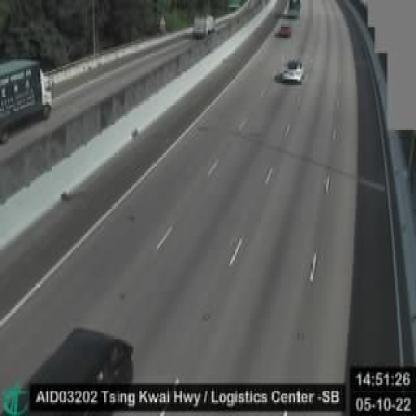Car: (279, 59, 303, 81), (278, 22, 290, 36)
